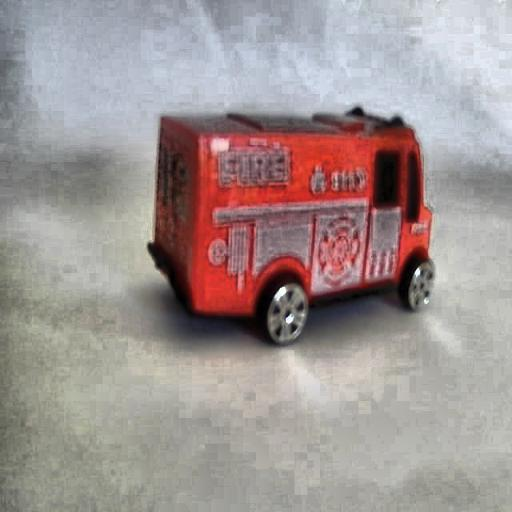fire_truck: (150, 109, 434, 349)
